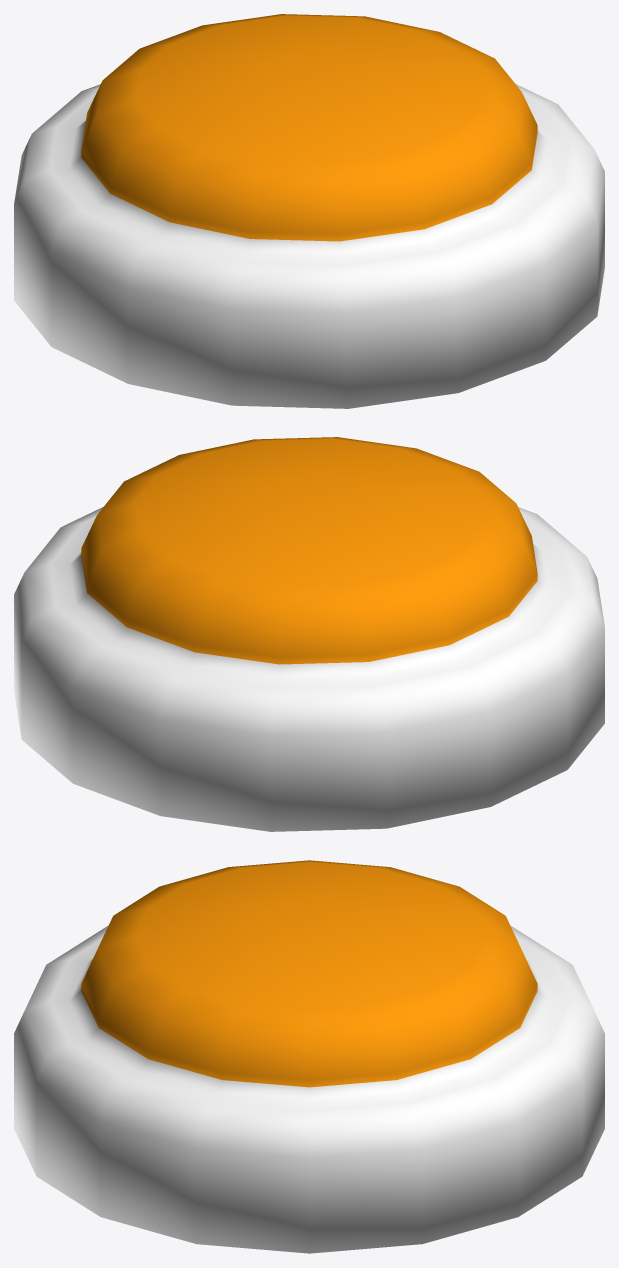
Rendered from TowerBuildBase.fbx.
3 views of the same model, one above another, from view 1: azimuth 30°, elevation 25°; view 2: azimuth 150°, elevation 25°; view 3: azimuth 270°, elevation 25° (orthographic).
Visible parts, largest first — view 1: 柱体; view 2: 柱体; view 3: 柱体.
Boxes of the visible parts, box(x1,y1,x2,y2) form: 柱体: box(14, 14, 604, 408); 柱体: box(14, 437, 604, 831); 柱体: box(14, 860, 604, 1253).
Bounding box in the file's own units: 200 × 76.23 × 200.
1 material, 1 textured.
